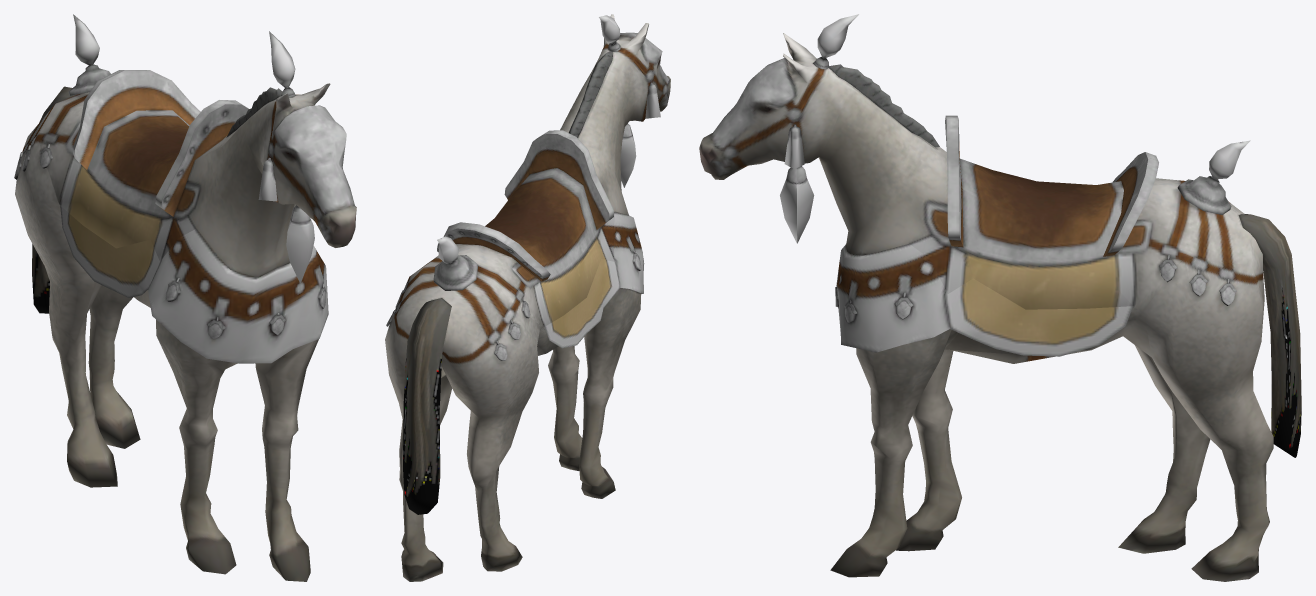
The model's file is body-heavycavalry.glb.
The picture shows the model from 3 angles, left to right: view 1: azimuth 30°, elevation 25°; view 2: azimuth 150°, elevation 25°; view 3: azimuth 270°, elevation 25°; orthographic projection. The views are drawn at different scales.
Size of the model in its own units: 0.8232 by 2.65 by 2.65.
Materials: 1 (1 with a texture image).
